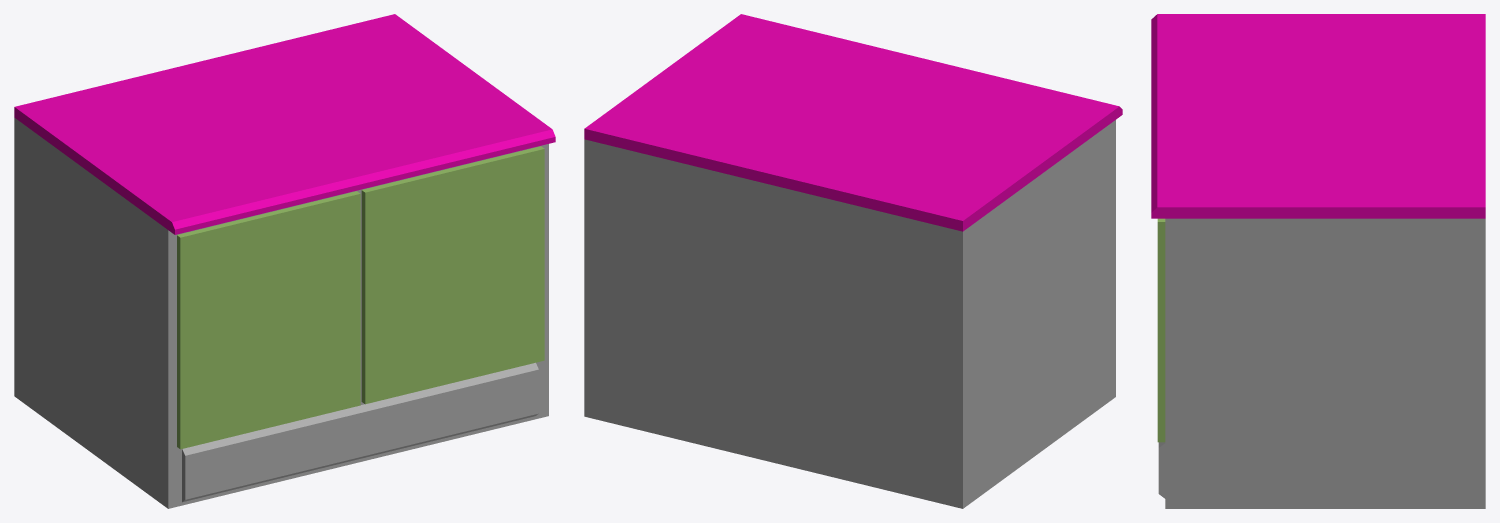
Rendered from Counter_LP.fbx.
The picture shows the model from 3 angles, left to right: view 1: azimuth 30°, elevation 25°; view 2: azimuth 150°, elevation 25°; view 3: azimuth 270°, elevation 25°; orthographic projection. The views are drawn at different scales.
Visible parts, largest first — view 1: CounterV2_LP; view 2: CounterV2_LP; view 3: CounterV2_LP.
Part boxes in pixels (x1,y1,x2,y2): CounterV2_LP: (14, 14, 555, 508); CounterV2_LP: (584, 14, 1122, 508); CounterV2_LP: (1151, 14, 1485, 508).
Bounding box in the file's own units: 100 × 72.68 × 73.05.
